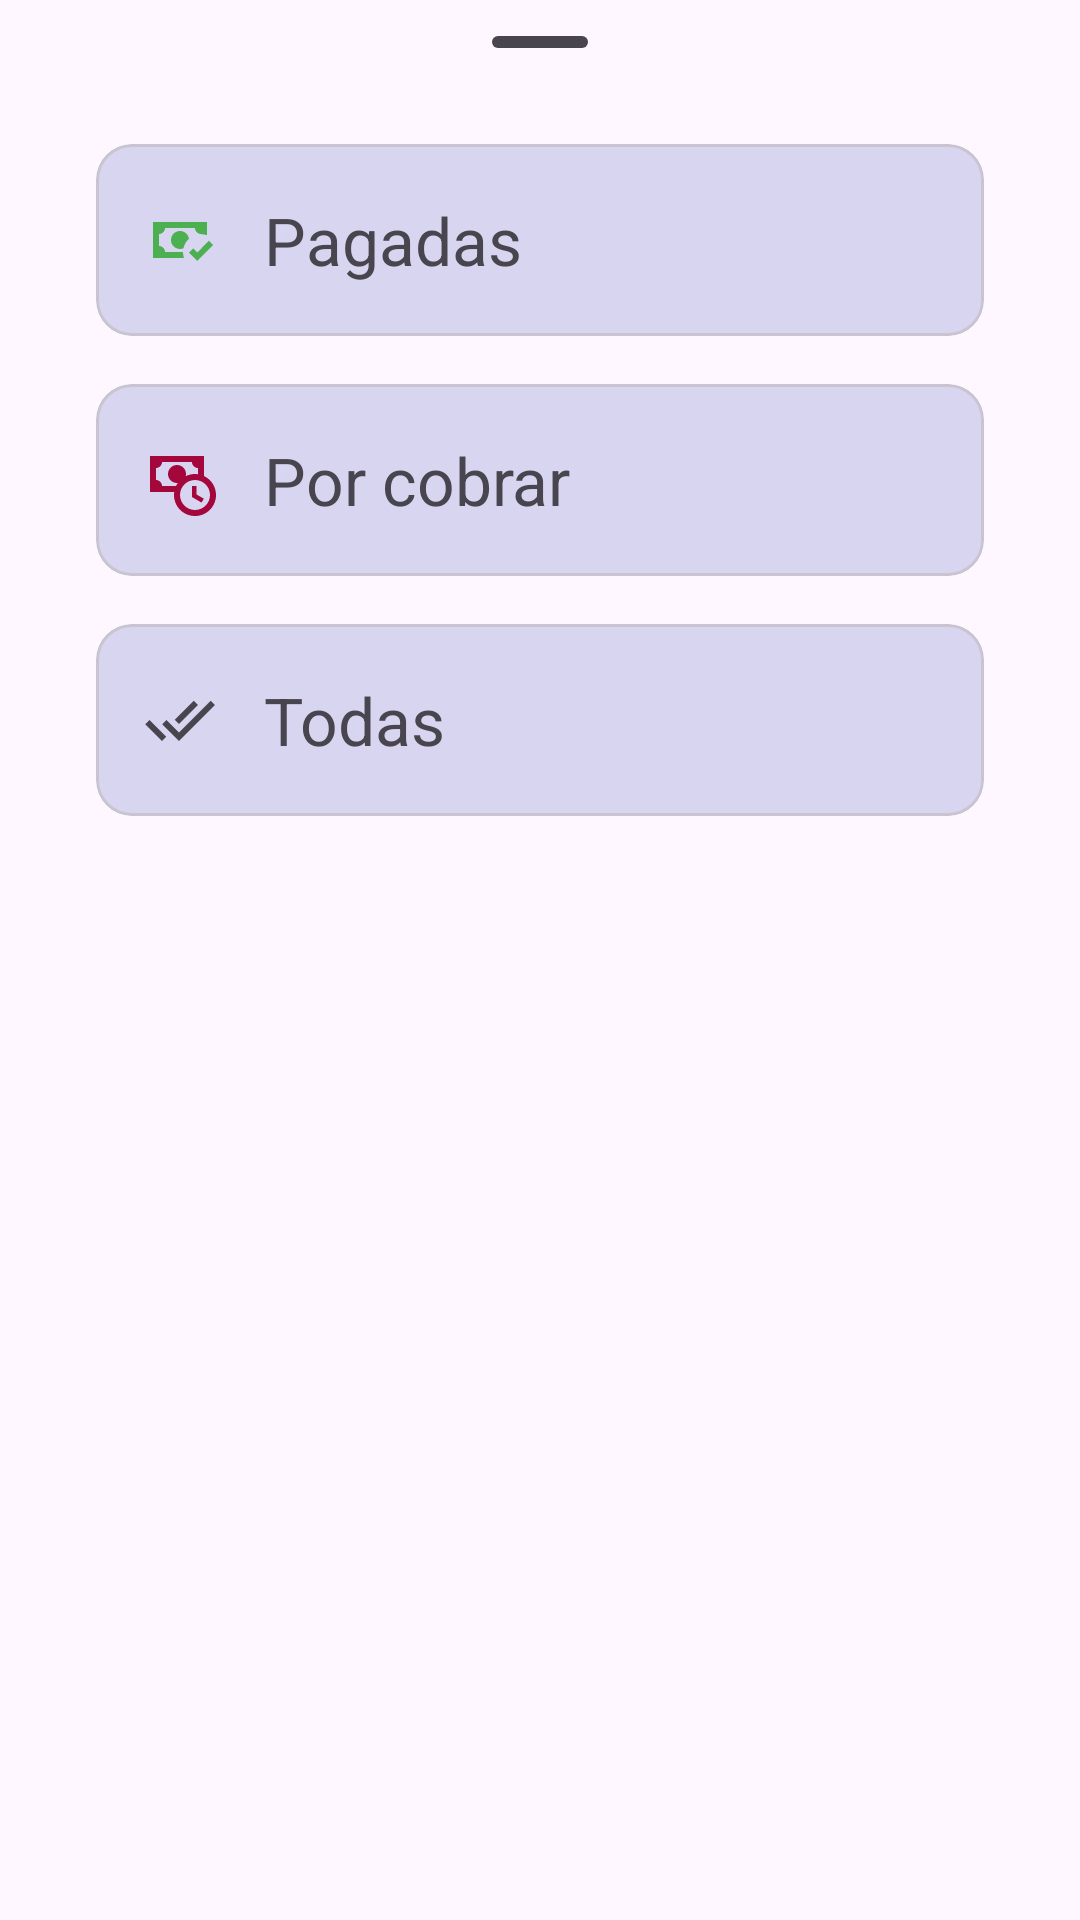

Locate icon controls on the screen. Image size 1080px x 1920px, boxes as (x1, y1, x2, y2).
debt: (150, 456, 216, 516)
done all: (145, 701, 215, 741)
paid: (153, 222, 213, 261)
